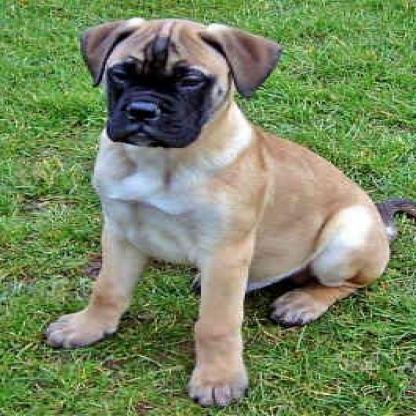bull_mastiff: (41, 15, 413, 406)
